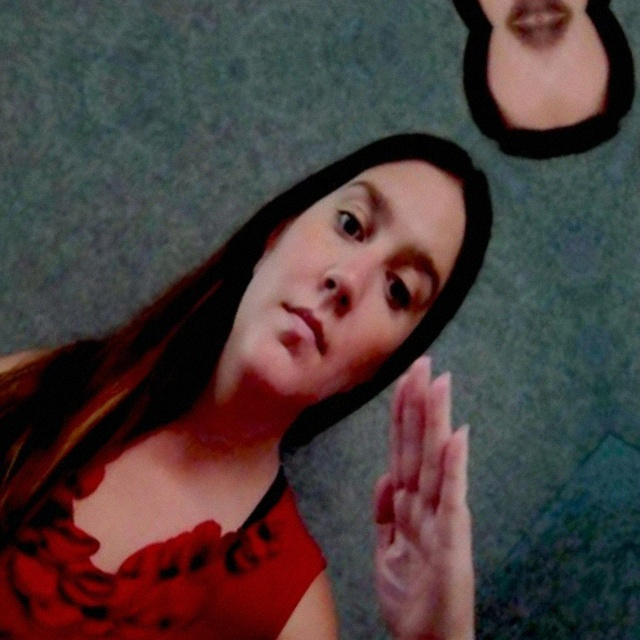Paper: (215, 321, 617, 640)
